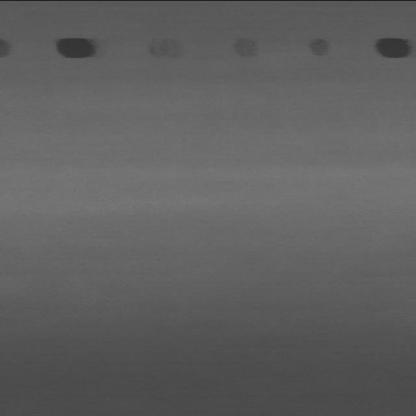oil_spot: (358, 35, 409, 64), (141, 38, 187, 61), (53, 37, 96, 61), (228, 38, 264, 58), (301, 37, 329, 55), (0, 40, 12, 62)
